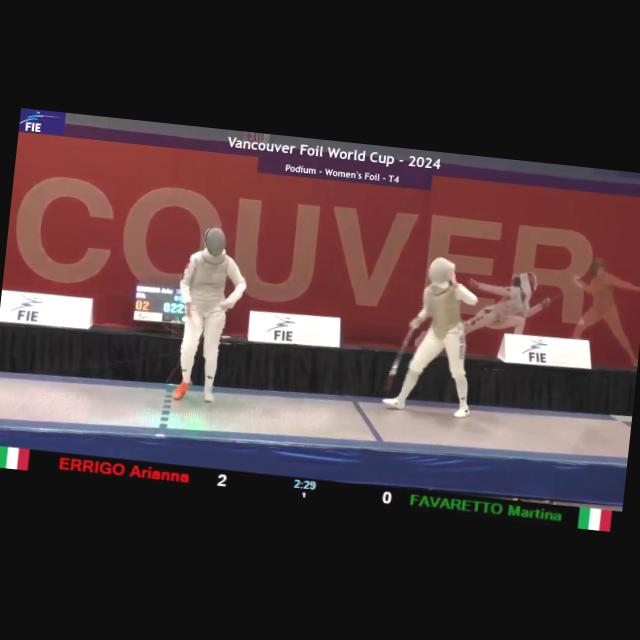blade: (384, 316, 421, 393)
